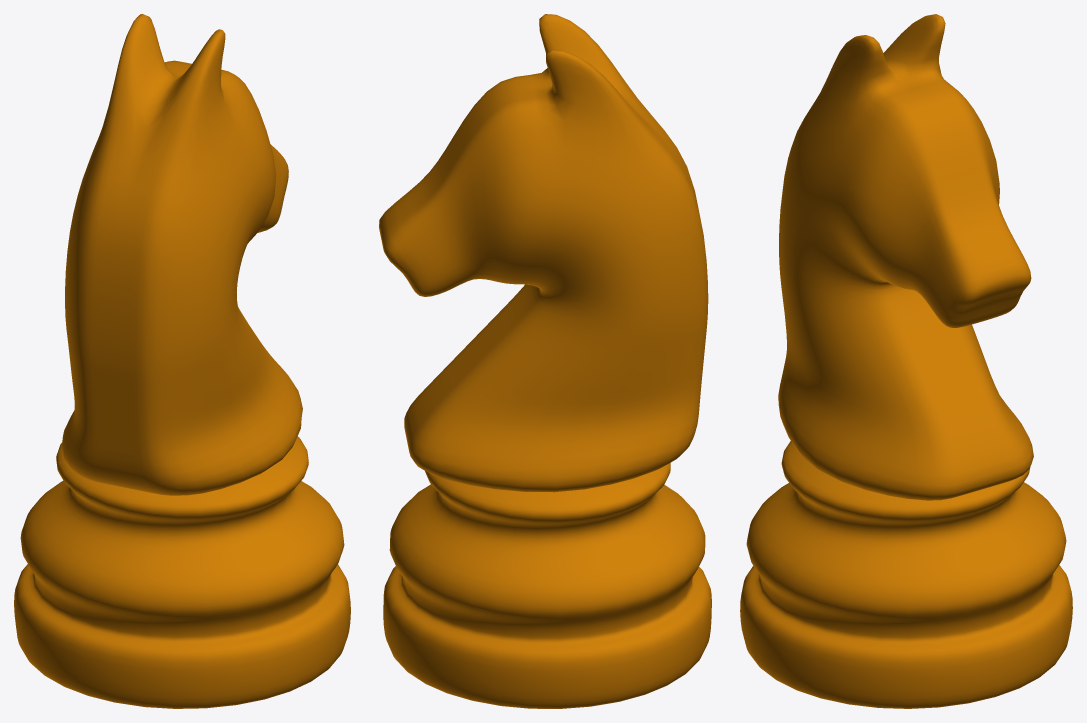
The model's file is knight.obj.
The picture shows the model from 3 angles, left to right: view 1: azimuth 30°, elevation 25°; view 2: azimuth 150°, elevation 25°; view 3: azimuth 270°, elevation 25°; orthographic projection.
Visible parts, largest first — view 1: Knight; view 2: Knight; view 3: Knight.
Boxes of the visible parts, box(x1,y1,x2,y2) form: Knight: box(14, 14, 350, 708); Knight: box(379, 14, 711, 708); Knight: box(740, 14, 1072, 708).
Bounding box in the file's own units: 0.5005 × 1.03 × 0.5.
